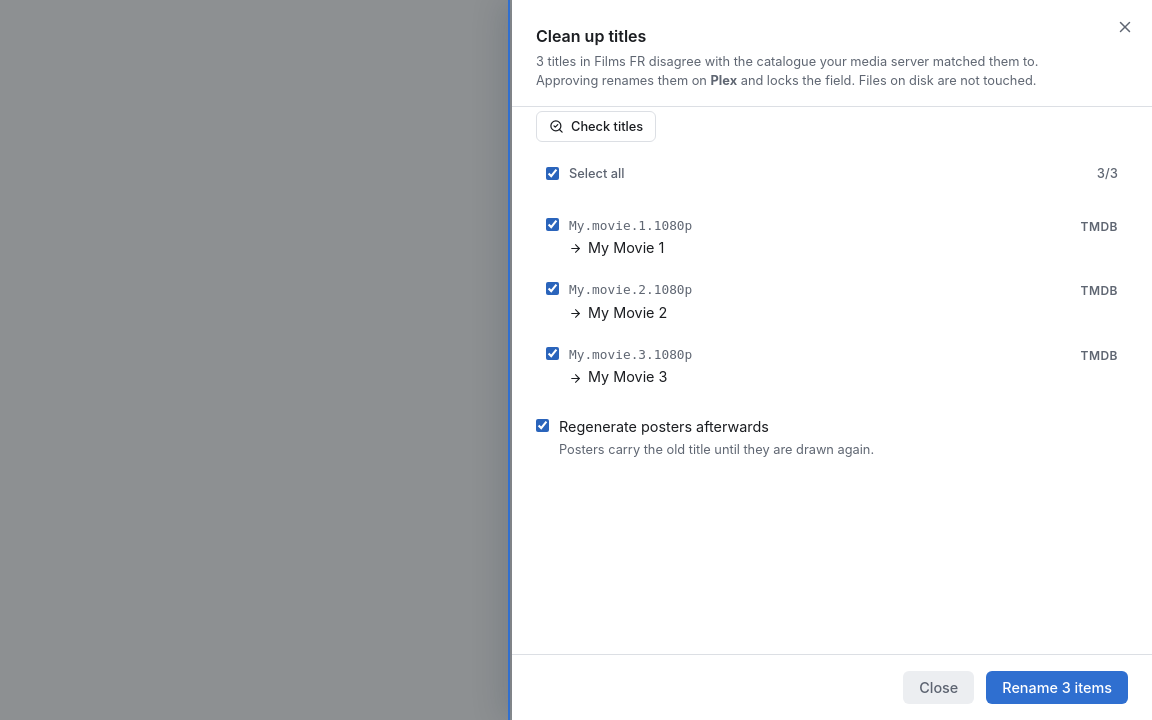
Test: TitleCleanupPanel › cannot approve once every row is unticked
Check: the button "Rename 3 items" is shown, box [986,671,1128,704]
Click the checkbox labelled "Select all" at [552, 174], box [546,168,559,180]
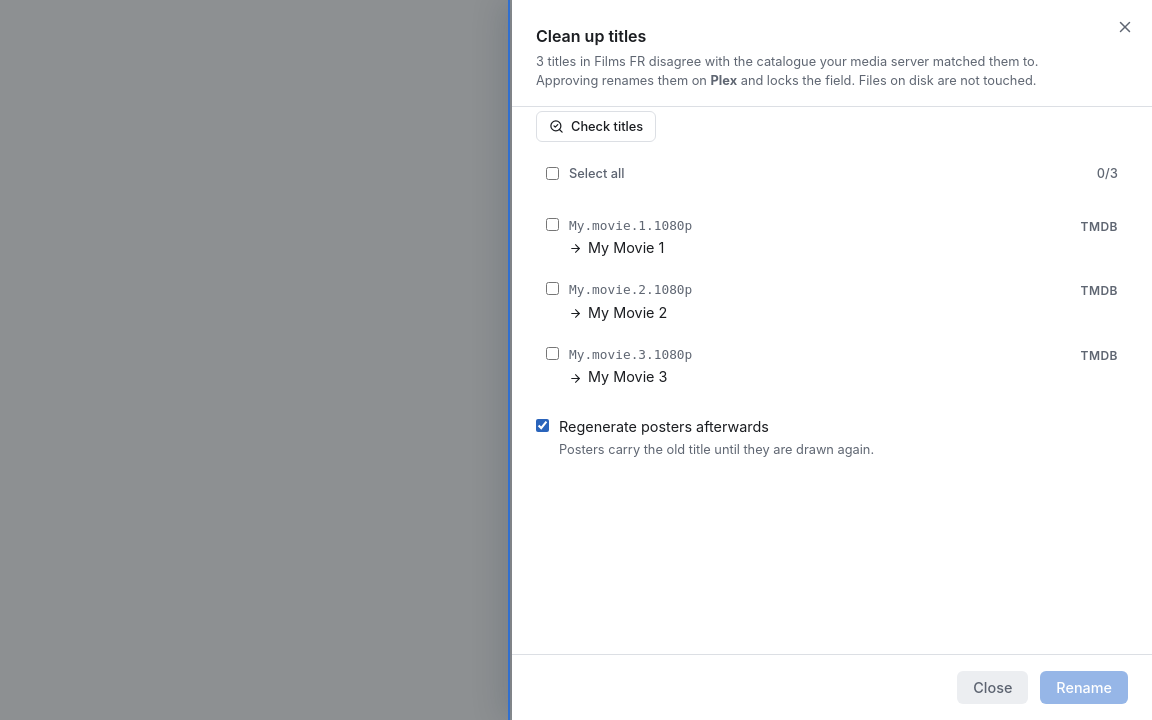
Check: the button "Rename" is disabled, box [1040,671,1128,704]
